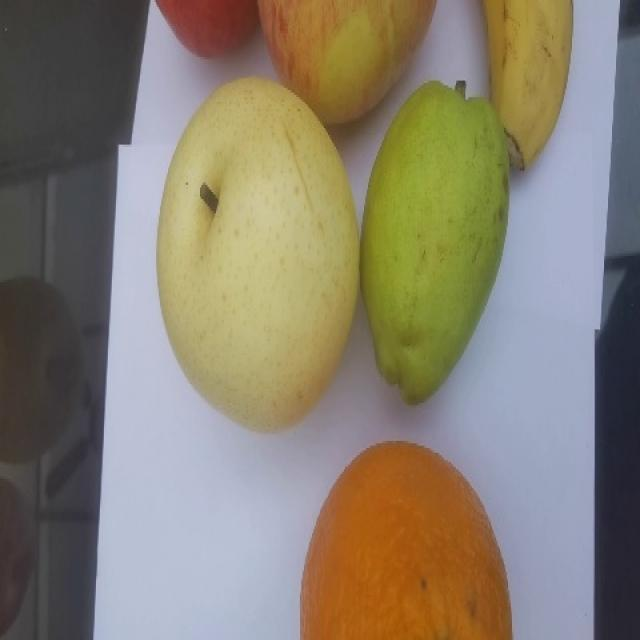Apple: (256, 0, 437, 126), (154, 0, 259, 58)
Banana: (481, 0, 574, 171)
Orange: (299, 439, 513, 639)
